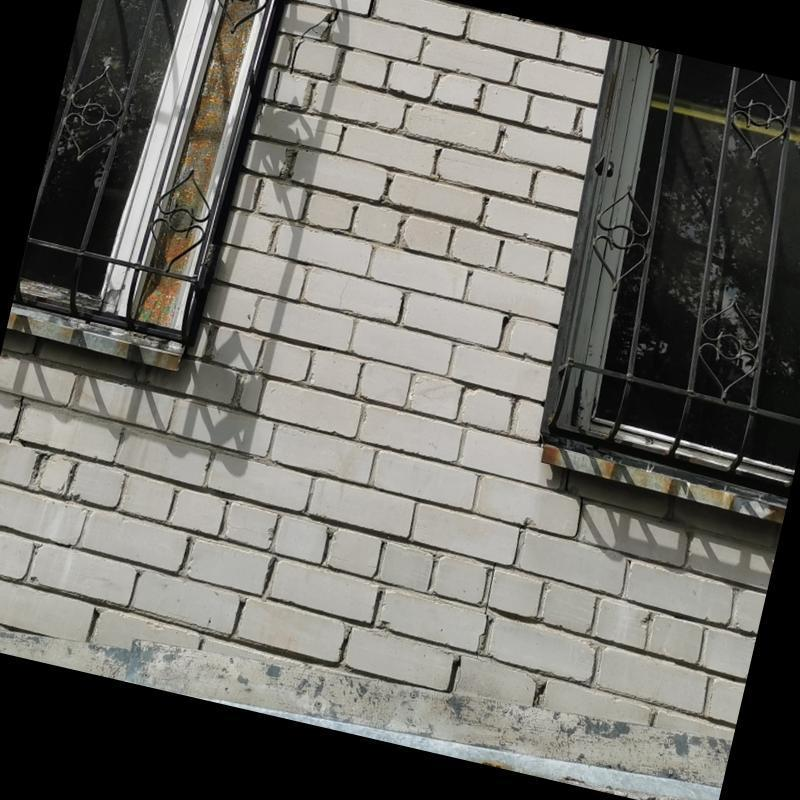crack: (288, 9, 339, 75), (271, 69, 280, 102), (255, 102, 267, 121), (363, 0, 373, 18)
